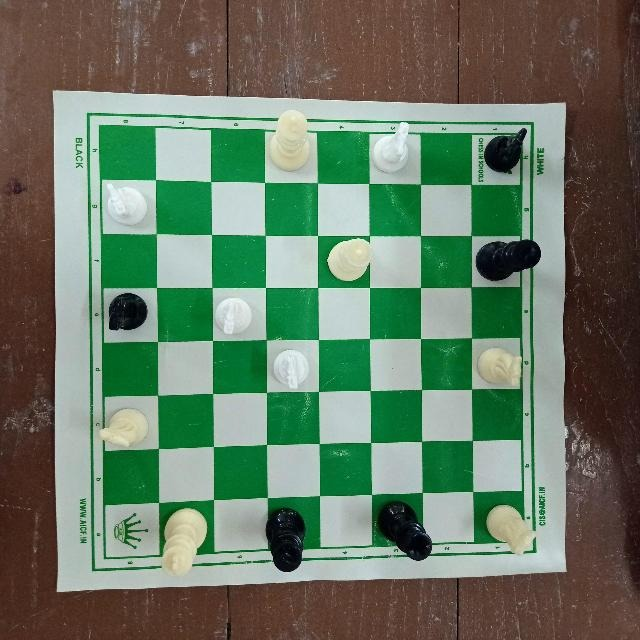black-king: (374, 494, 433, 566), (262, 505, 317, 574), (477, 238, 542, 286)
black-knight: (481, 123, 531, 177), (103, 284, 153, 338)
white-king: (159, 508, 209, 582), (266, 104, 314, 176)
white-knight: (480, 498, 539, 556), (100, 177, 151, 232), (98, 405, 156, 451), (368, 121, 413, 177), (475, 340, 524, 388), (269, 343, 314, 392), (209, 296, 254, 338)
white-queen: (323, 234, 373, 286)
